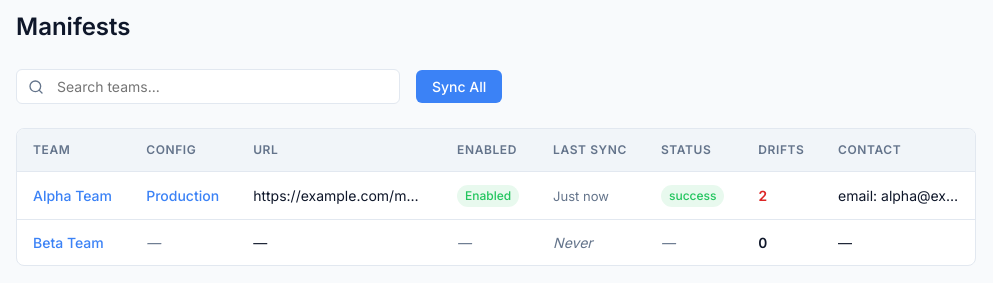
Test: ManifestAdmin › filters entries by search query
This screenshot has width=993, height=283.
Expected: the link "Alpha Team" is shown, [33,187,112,204]
Type "beta" into the field with placeholder "Search teams..." at (208, 86), box [16,69,400,104]
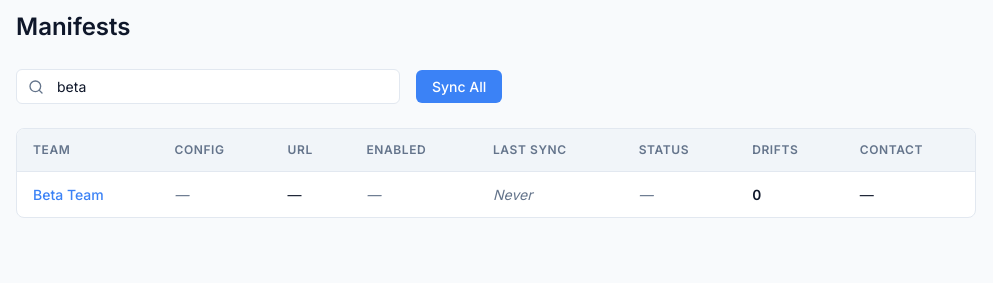
Expected: the link "Beta Team" is shown, [33,186,104,203]
Now the link "Alpha Team" is gone
